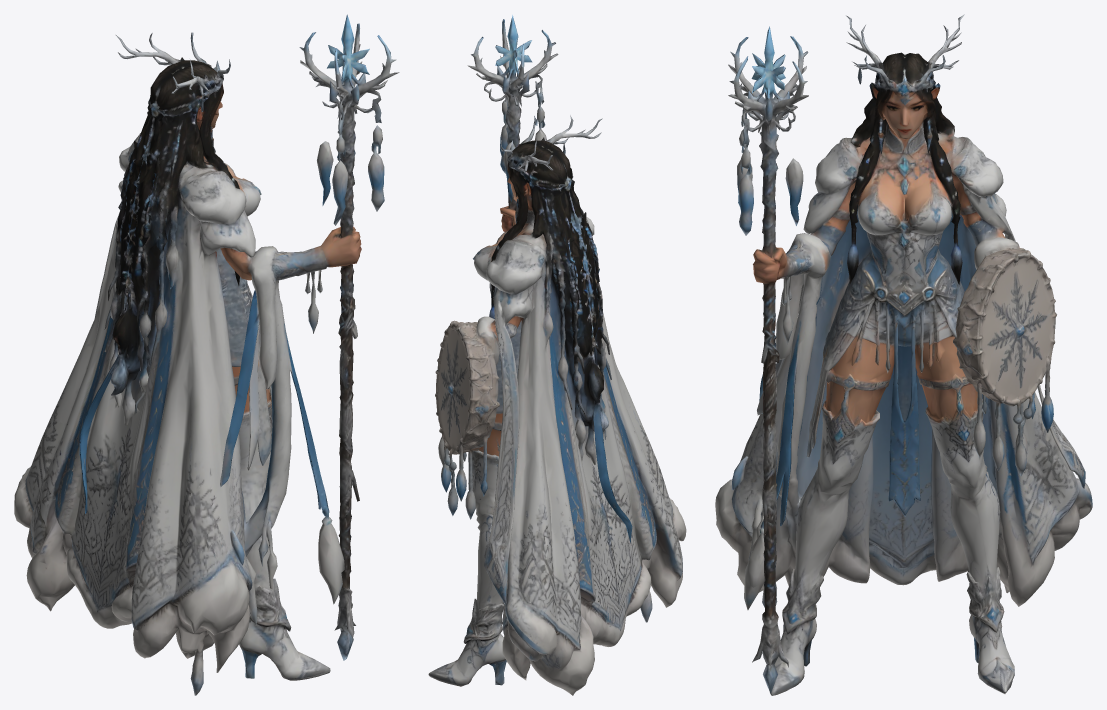
The model's file is drumcaller-WhiteSteppe-tripo.glb.
3 views of the same model, side by side, from view 1: azimuth 30°, elevation 25°; view 2: azimuth 150°, elevation 25°; view 3: azimuth 270°, elevation 25° (orthographic). The views are drawn at different scales.
Visible parts, largest first — view 1: tripo_node_17d5bb2b-0f45-425d-90c5-971554fd7eb1; view 2: tripo_node_17d5bb2b-0f45-425d-90c5-971554fd7eb1; view 3: tripo_node_17d5bb2b-0f45-425d-90c5-971554fd7eb1.
Part boxes in pixels (x1,y1,x2,y2): tripo_node_17d5bb2b-0f45-425d-90c5-971554fd7eb1: (14, 14, 399, 695); tripo_node_17d5bb2b-0f45-425d-90c5-971554fd7eb1: (428, 15, 686, 695); tripo_node_17d5bb2b-0f45-425d-90c5-971554fd7eb1: (715, 14, 1092, 695).
Size of the model in its own units: 0.3761 by 1 by 0.5038.
1 material, 1 textured.
